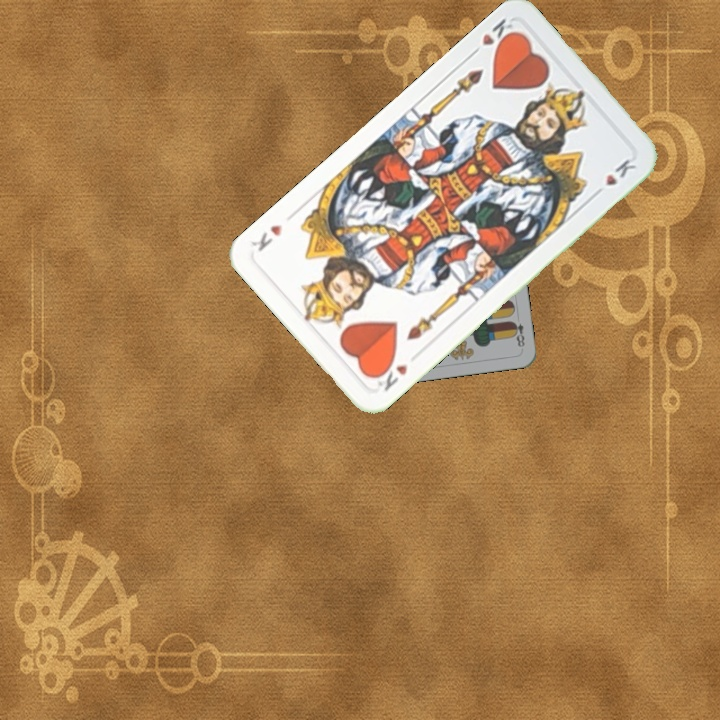E8: (508, 317, 527, 352)
HK: (465, 14, 521, 59), (367, 356, 411, 394)
